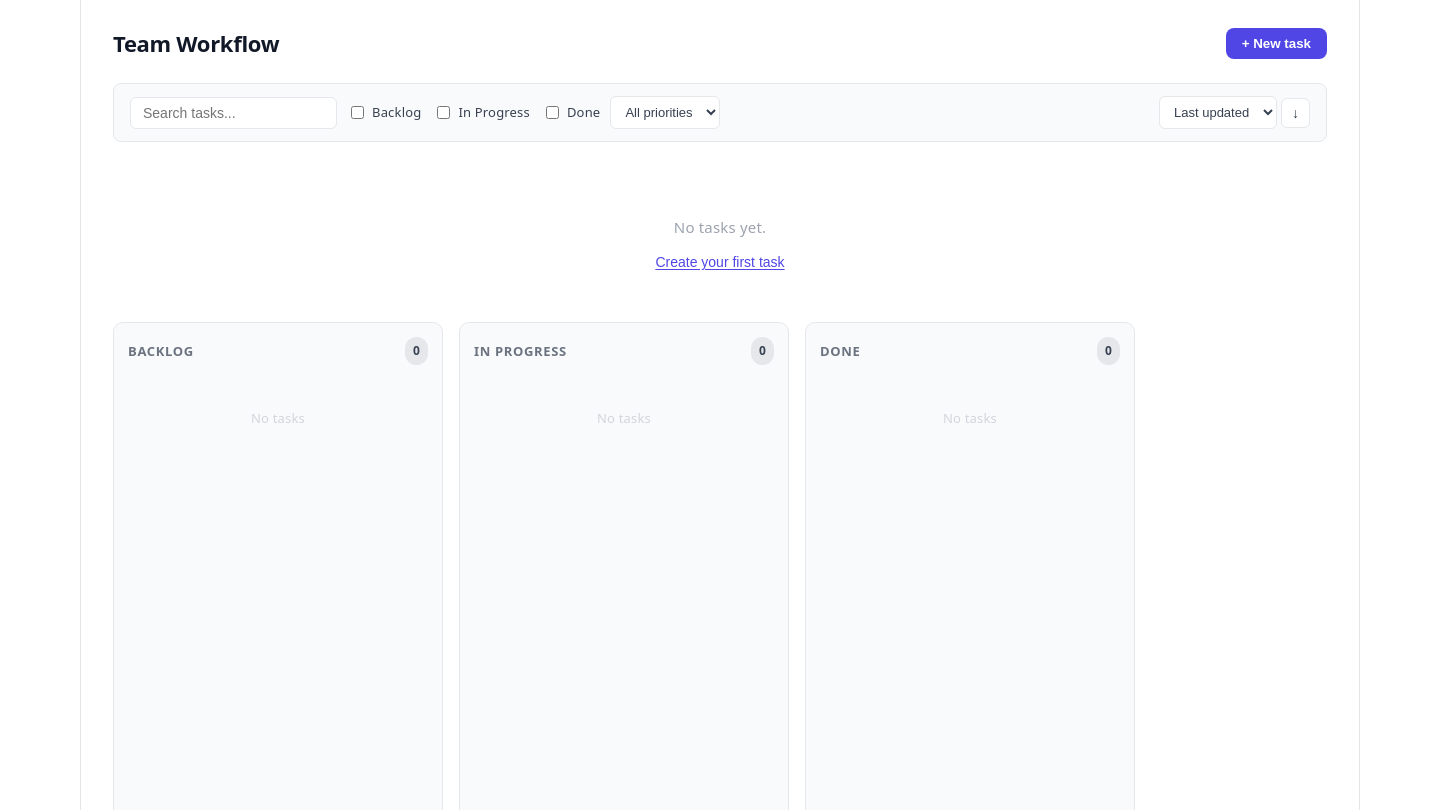
Scenario: task creation › shows a validation error when title is empty
This screenshot has width=1440, height=810.
Click the button "+ New task". click: (1276, 44)
box: top-left (1226, 28), bottom-right (1327, 59)
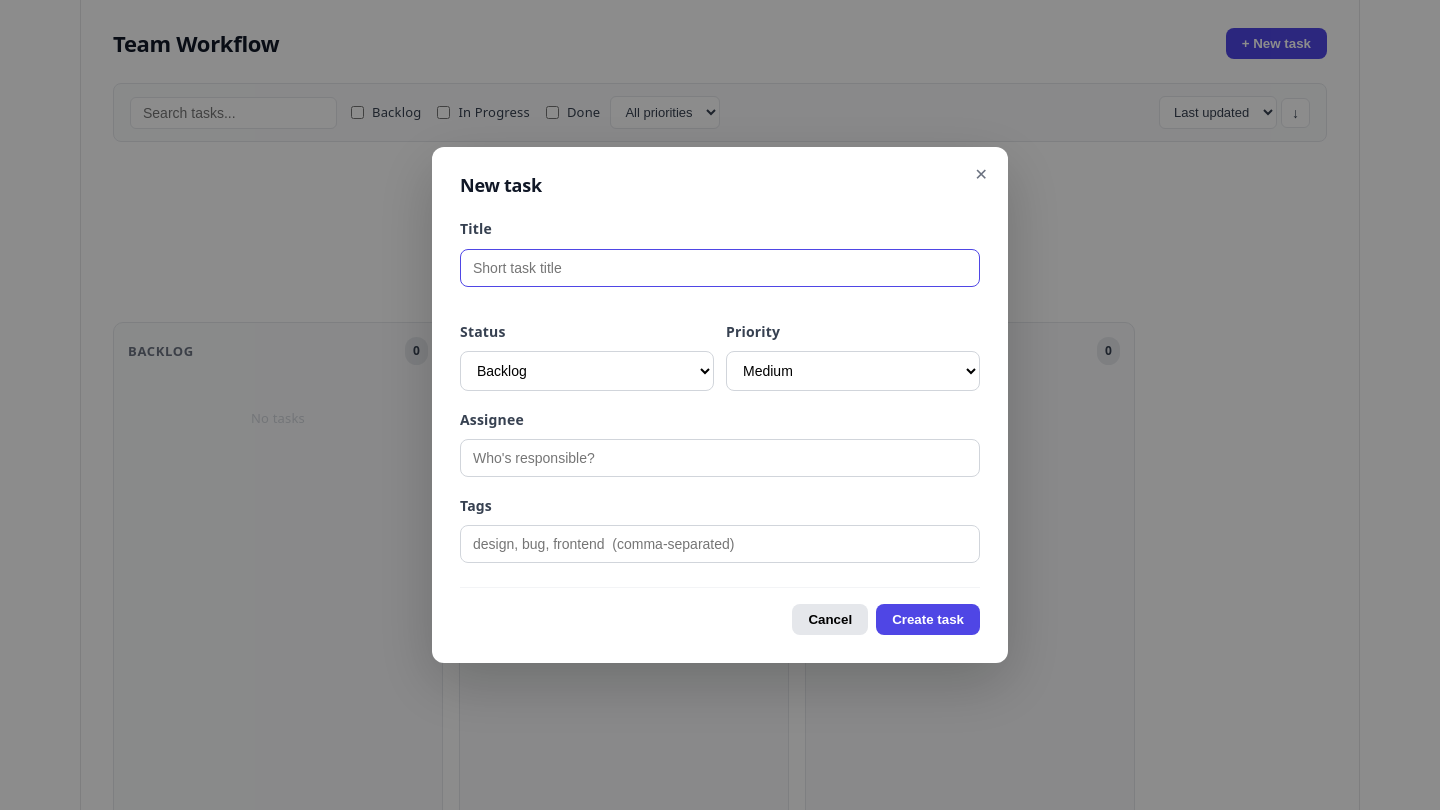
Click the button "Create task". click: (928, 619)
box: top-left (876, 604), bottom-right (980, 635)
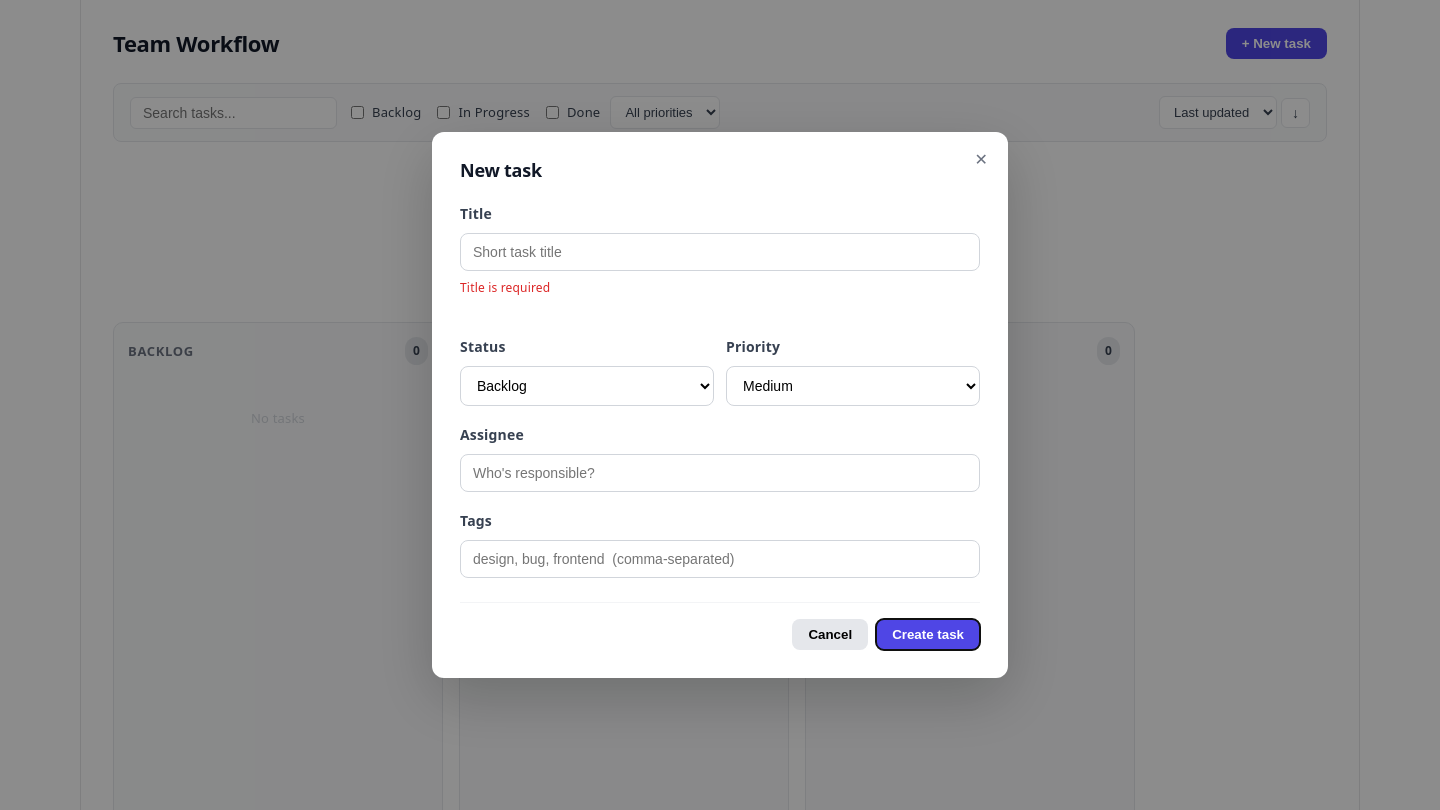
expect the message shows "required": met, box top-left (460, 280), bottom-right (550, 296)
